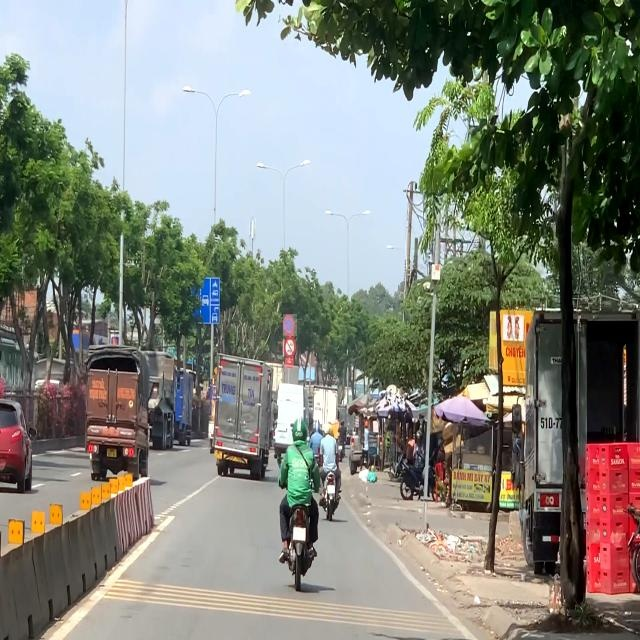bien_cam: (284, 314, 298, 336)
